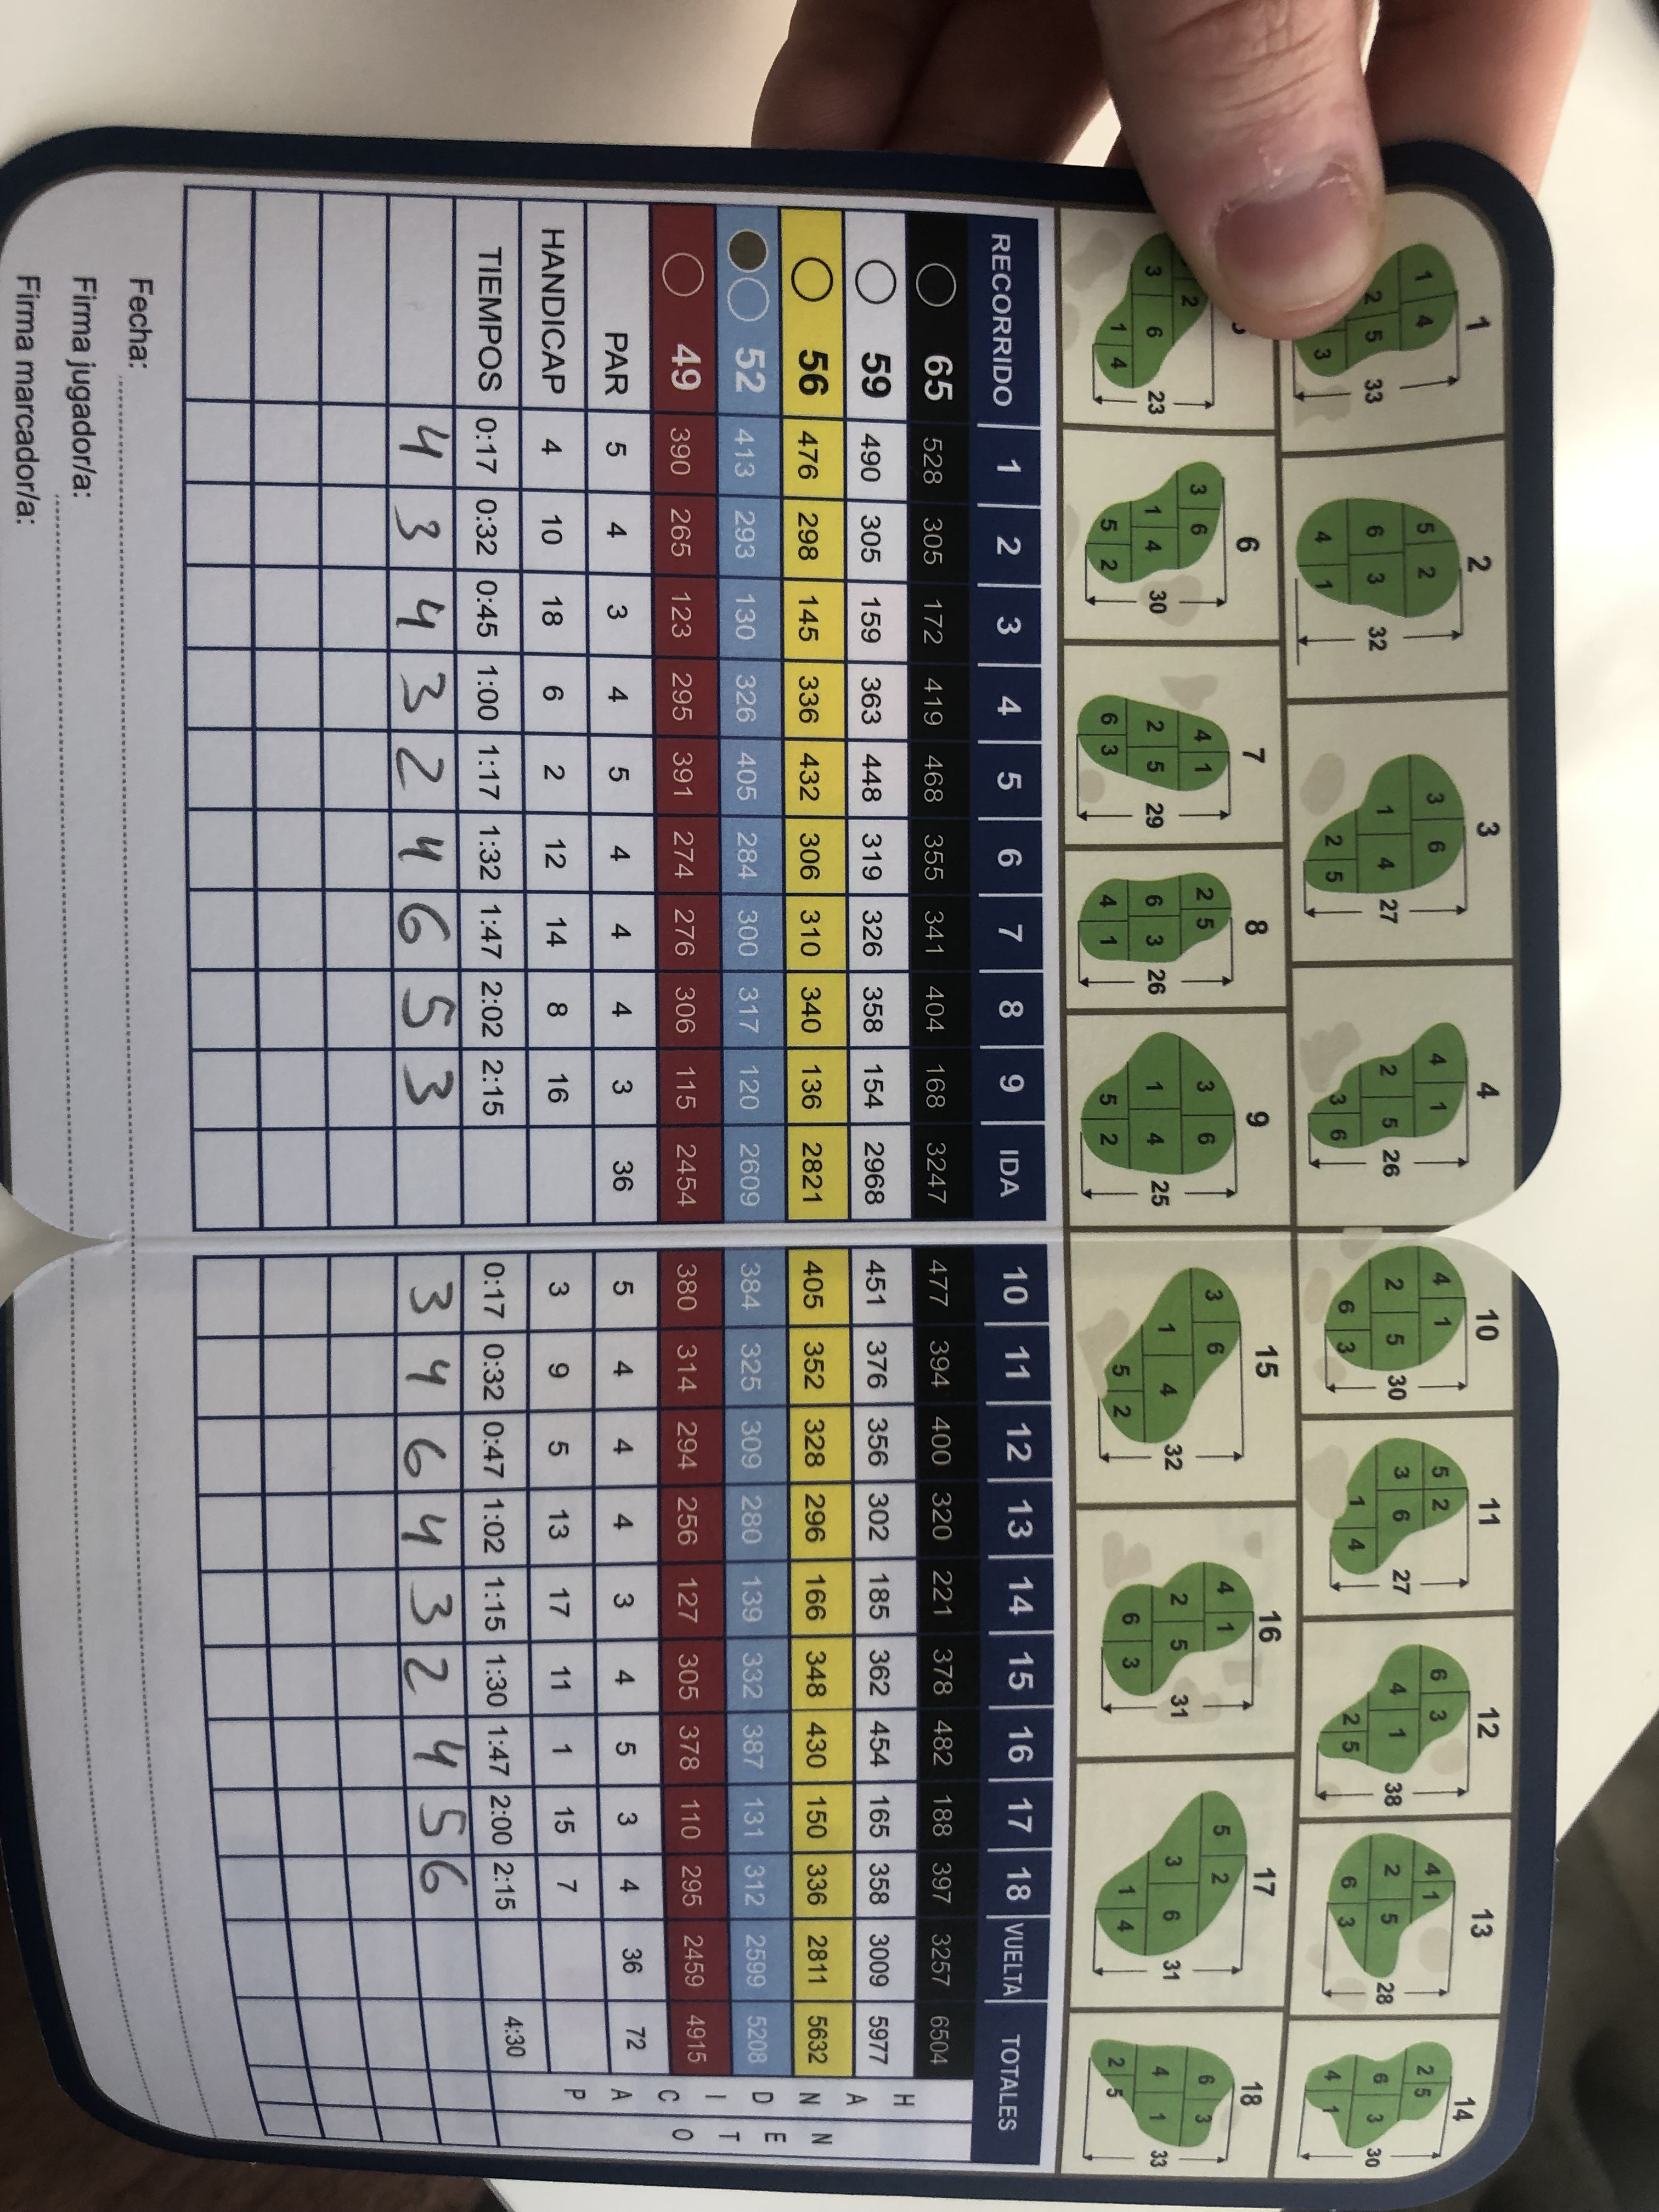par: (591, 317, 664, 2057)
score: (390, 408, 479, 1912)
